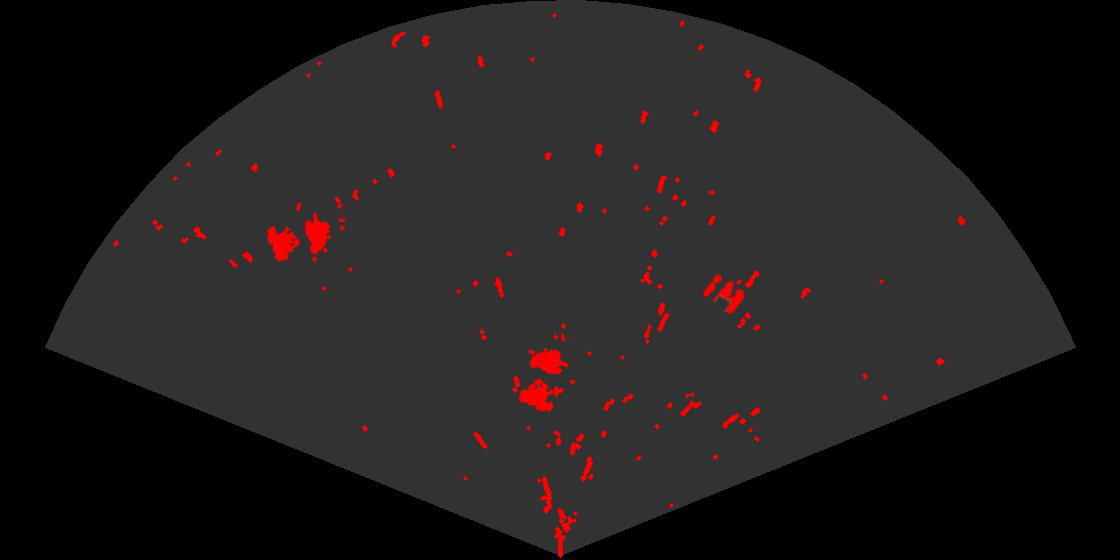ball: (701, 273, 746, 315)
cage: (265, 203, 345, 264), (517, 333, 575, 414)
